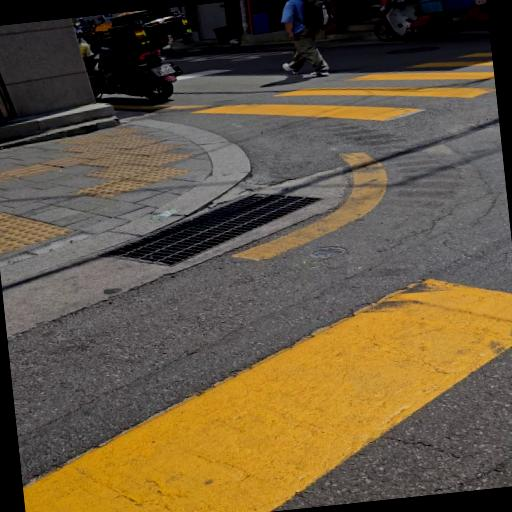yellow-crosswalk: (7, 267, 512, 512), (175, 42, 500, 160)
